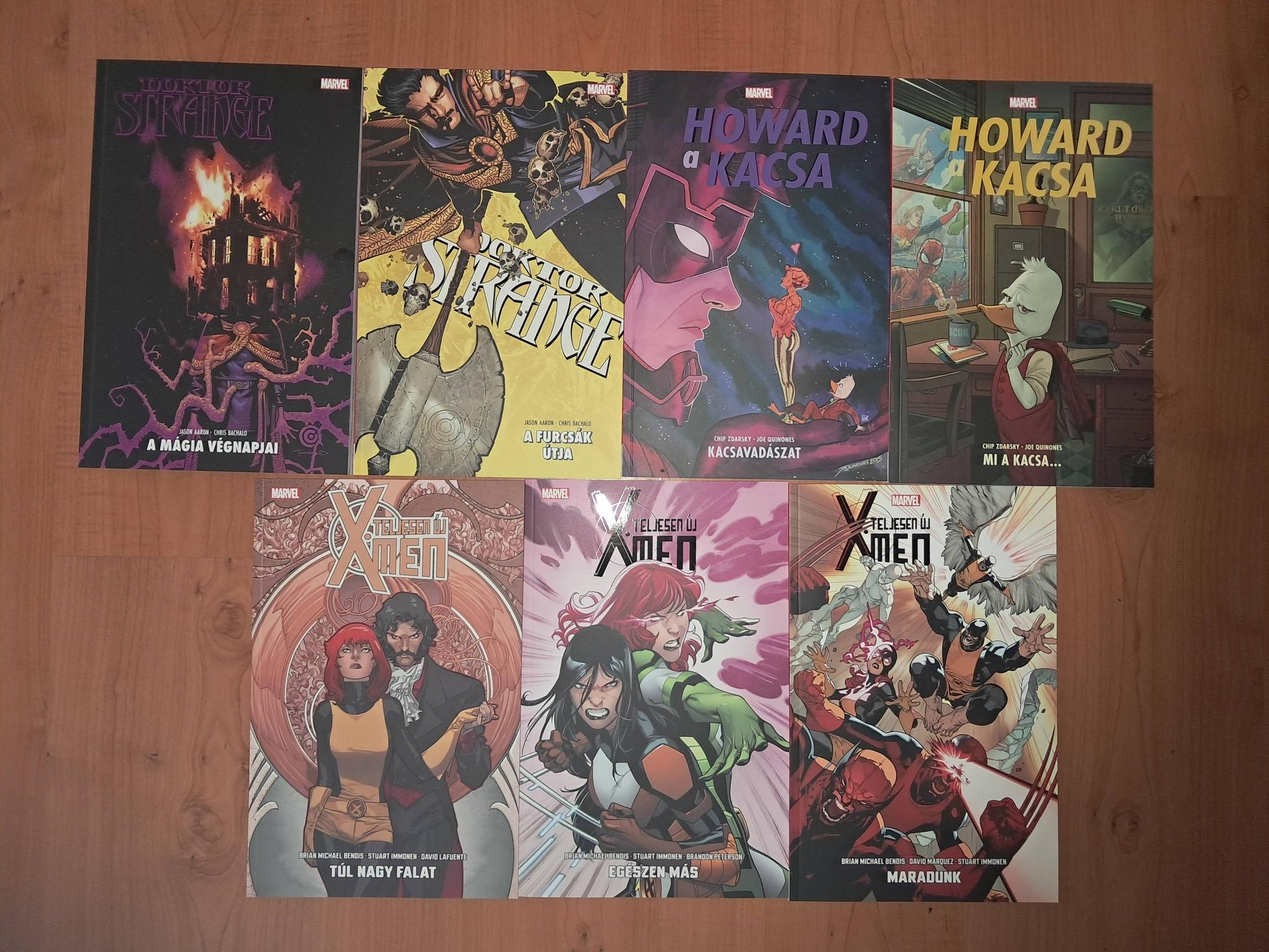comic: (245, 474, 525, 902), (78, 58, 363, 476), (353, 67, 627, 481), (518, 480, 789, 897), (789, 483, 1058, 902), (622, 72, 893, 480), (890, 79, 1153, 486)
